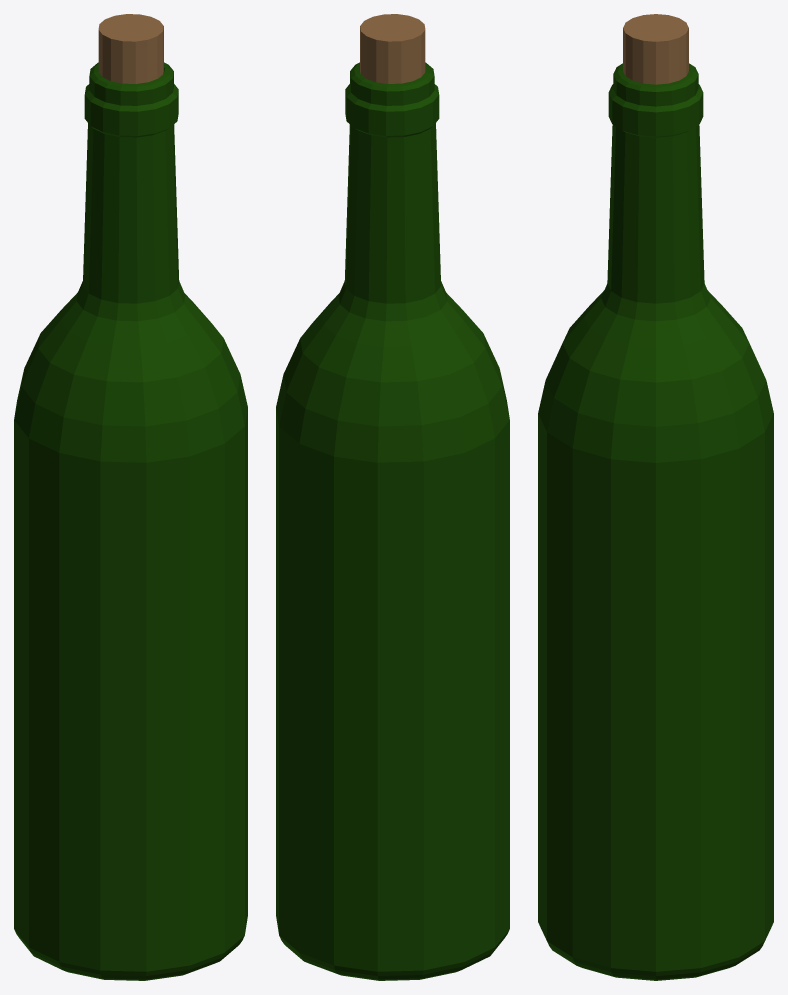
The model's file is Bottle_1.fbx.
The picture shows the model from 3 angles, left to right: view 1: azimuth 30°, elevation 25°; view 2: azimuth 150°, elevation 25°; view 3: azimuth 270°, elevation 25°; orthographic projection.
Parts seen in each view (by area): view 1: Bottle1.001, Cork.002; view 2: Bottle1.001, Cork.002; view 3: Bottle1.001, Cork.002.
Boxes of the visible parts, x1,y1,x2,y2 form: Bottle1.001: (14,62,247,980); Cork.002: (98,14,163,83); Bottle1.001: (276,62,509,980); Cork.002: (360,14,425,83); Bottle1.001: (538,63,773,980); Cork.002: (623,14,688,84).
Size of the model in its own units: 27.56 by 117 by 27.56.
